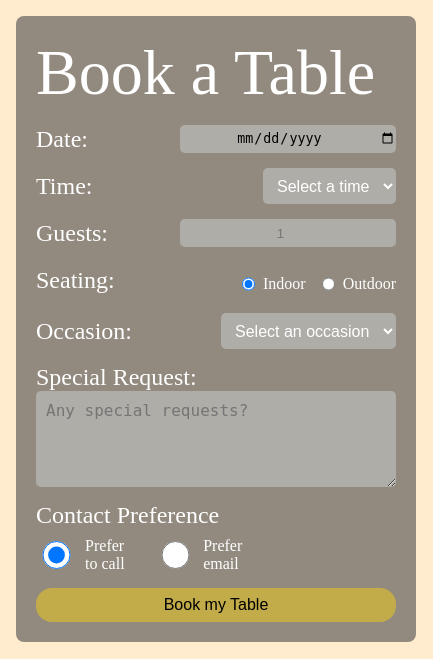
Submit Button Disabled State › button is enabled if guests are between 1 and 10
Step 1. Type "2025-02-01" into the date field labelled "Date:" → [288, 139], box [180, 125, 396, 153]
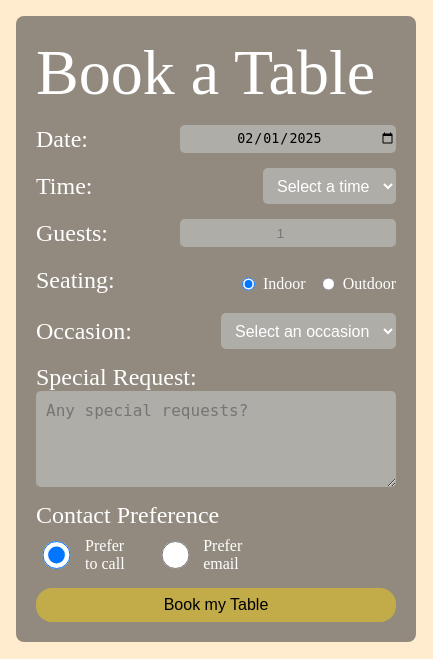
Step 2. Select "17:00" in the dropdown labelled "Time:" → [330, 186], box [263, 168, 396, 204]
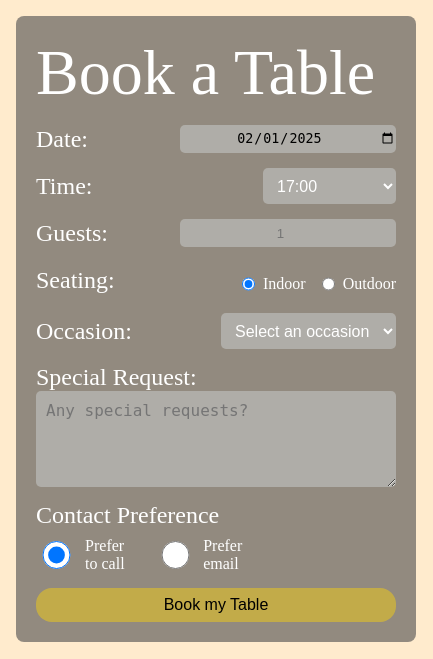
Step 3. Type "5" into the number field labelled "Guests:" → [288, 233], box [180, 219, 396, 247]
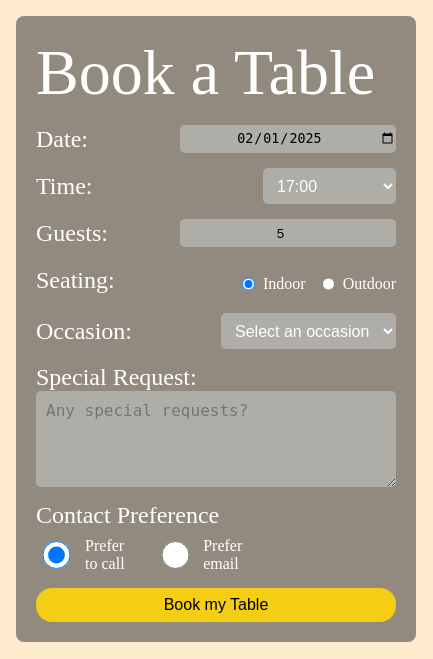
Check: the button is enabled, box [36, 588, 396, 622]
